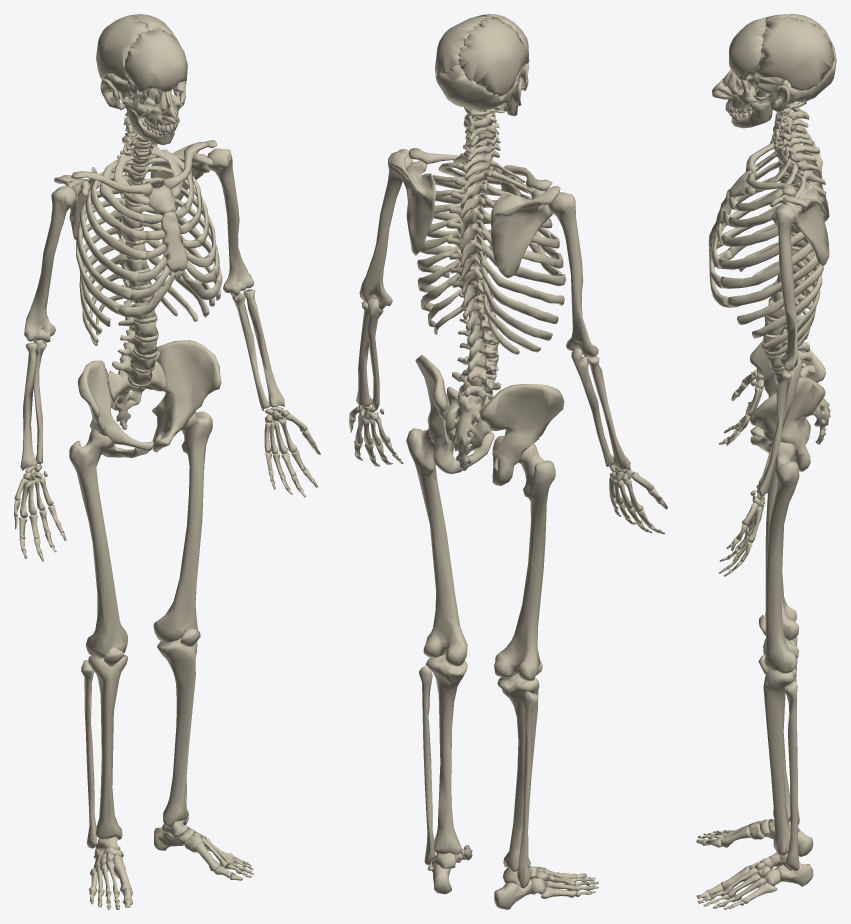
The model's file is skeleton-v2.glb.
The picture shows the model from 3 angles, left to right: view 1: azimuth 30°, elevation 25°; view 2: azimuth 150°, elevation 25°; view 3: azimuth 270°, elevation 25°; orthographic projection. The views are drawn at different scales.
Visible parts, largest first — view 1: Devara anatomical skeleton opaque prop; view 2: Devara anatomical skeleton opaque prop; view 3: Devara anatomical skeleton opaque prop.
Boxes of the visible parts, <box> form: Devara anatomical skeleton opaque prop: <box>14,14,320,909</box>; Devara anatomical skeleton opaque prop: <box>349,14,667,909</box>; Devara anatomical skeleton opaque prop: <box>696,14,836,909</box>.
Size of the model in its own units: 0.6582 by 1.73 by 0.2588.
